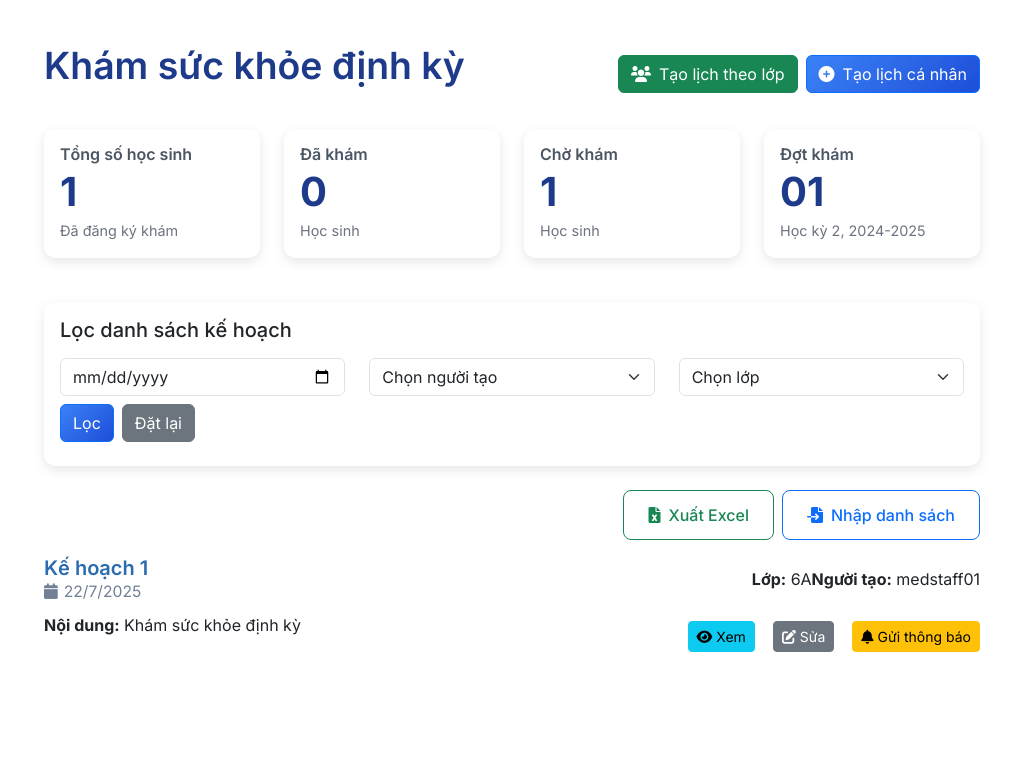
Test case: HealthCheckManagement - Extra Coverage › handleCloseDetails closes modal
The width and height of the screenshot is (1024, 768).
Click the button with test id "view-detail-btn-plan1": click(721, 637) left=688, top=621, right=755, bottom=652
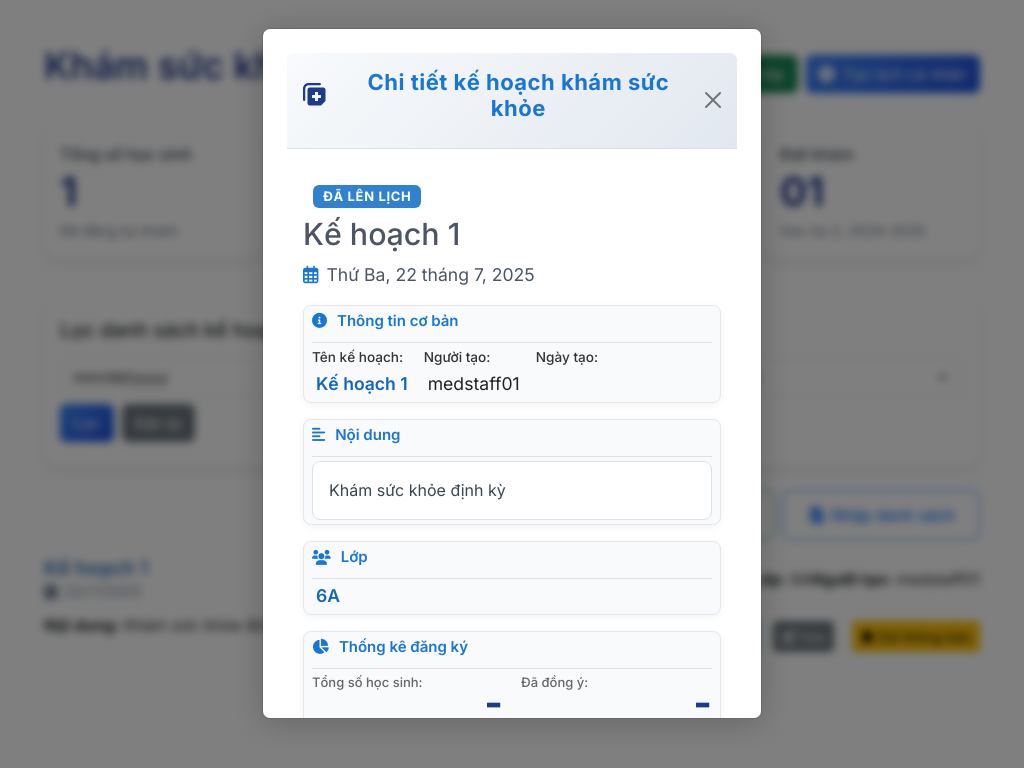
Click the button: click(713, 100) left=697, top=84, right=729, bottom=116
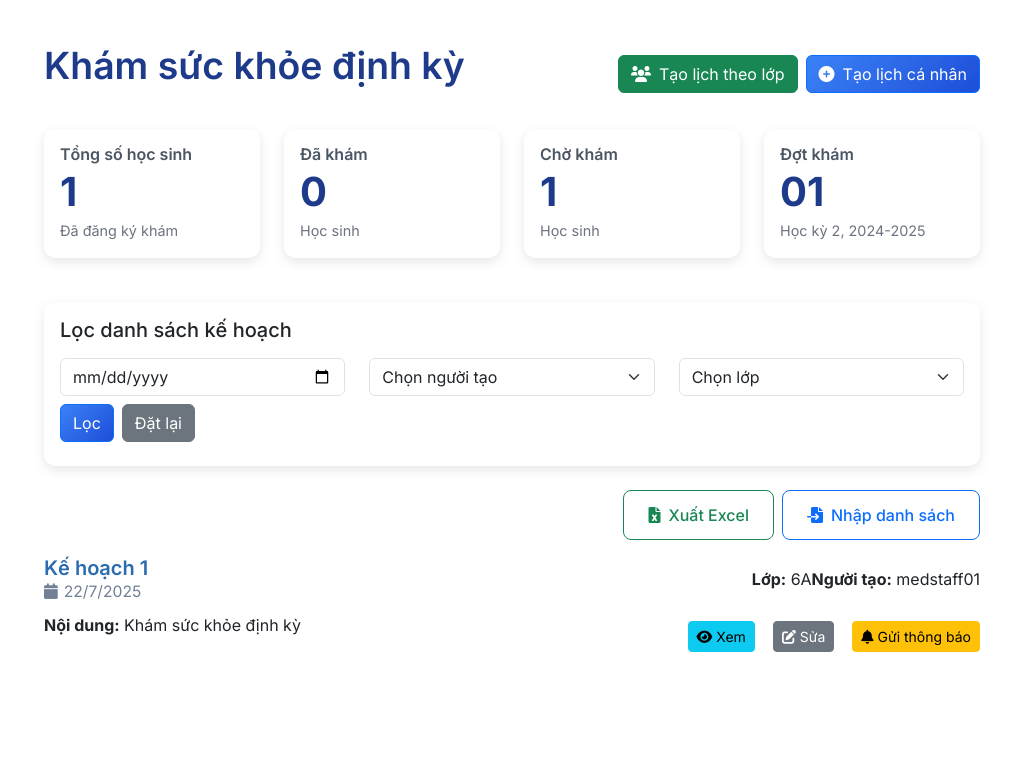
Result: the element with test id "plan-detail-modal" is gone
